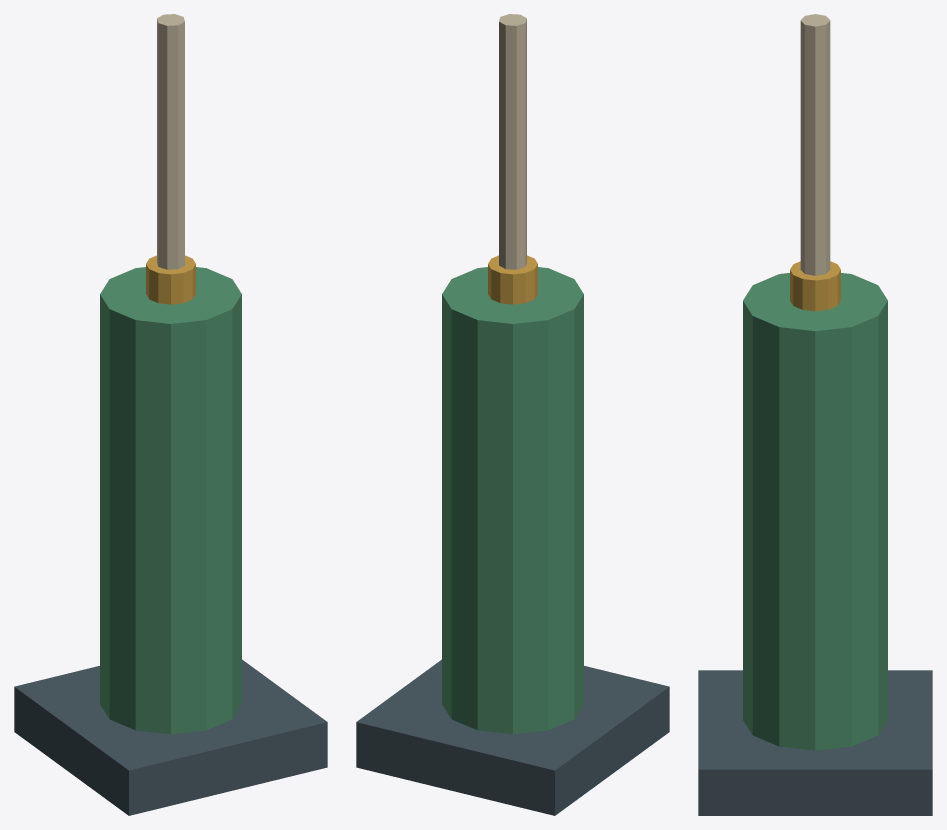
Rendered from oxygen_station.glb.
3 views of the same model, side by side, from view 1: azimuth 30°, elevation 25°; view 2: azimuth 150°, elevation 25°; view 3: azimuth 270°, elevation 25° (orthographic). The views are drawn at different scales.
Parts seen in each view (by area): view 1: oxygen_station; view 2: oxygen_station; view 3: oxygen_station.
Part boxes in pixels (bbox=[...]): oxygen_station: bbox=[14, 14, 327, 815]; oxygen_station: bbox=[356, 14, 669, 815]; oxygen_station: bbox=[698, 14, 932, 815].
Size of the model in its own units: 0.55 by 1.93 by 0.55.
